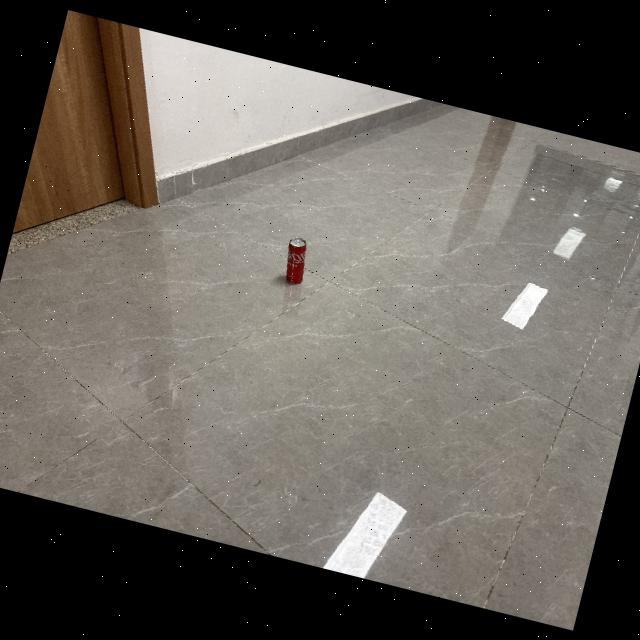Cola: (273, 231, 316, 289)
